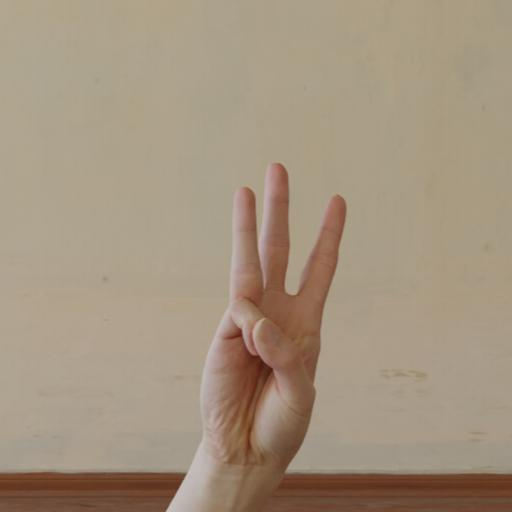W: (200, 162, 350, 492)
